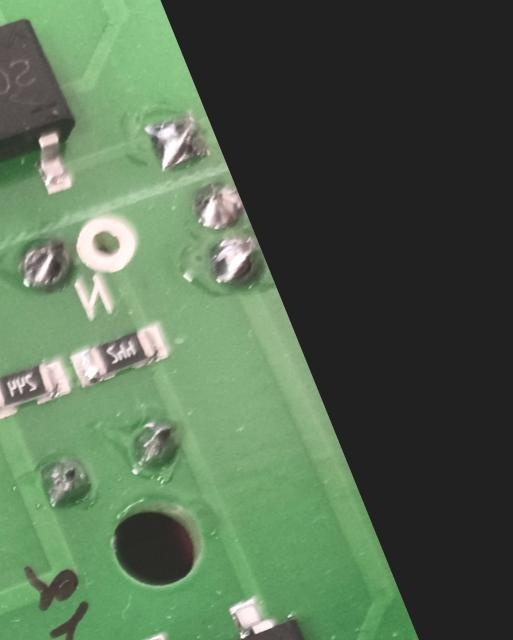chip-resistor: (63, 316, 172, 391), (0, 352, 75, 430)
